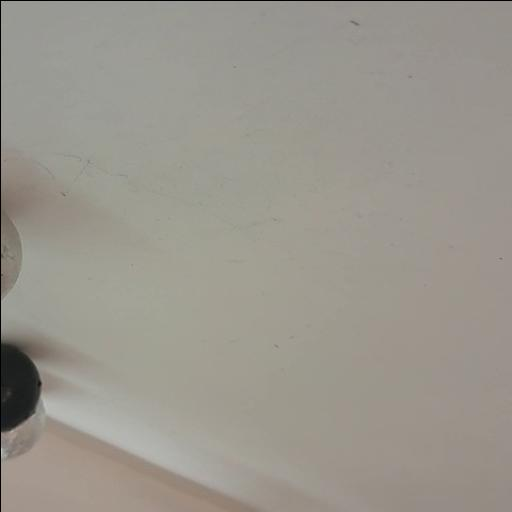alive: (1, 400, 44, 460), (0, 206, 24, 308)
dead: (0, 346, 42, 433)
